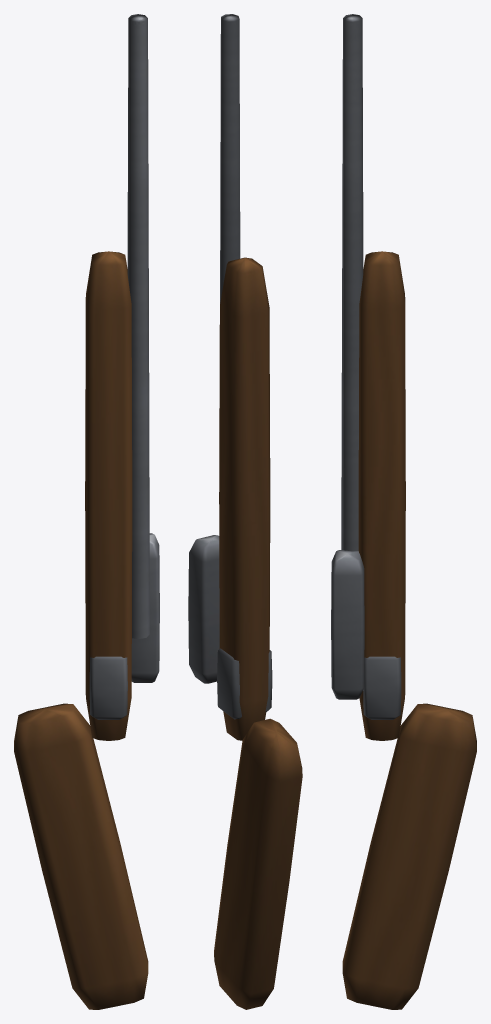
Rendered from fusil-1940.glb.
The picture shows the model from 3 angles, left to right: view 1: azimuth 90°, elevation 25°; view 2: azimuth 210°, elevation 25°; view 3: azimuth 270°, elevation 25°; orthographic projection.
Visible parts, largest first — view 1: fusil-1940; view 2: fusil-1940; view 3: fusil-1940.
Boxes of the visible parts, left/top/right/bottom form: fusil-1940: left=14, top=14, right=159, bottom=1009; fusil-1940: left=188, top=14, right=302, bottom=1009; fusil-1940: left=331, top=14, right=476, bottom=1009.
Size of the model in its own units: 0.0639 by 1.11 by 0.1484.
1 material, 1 textured.
